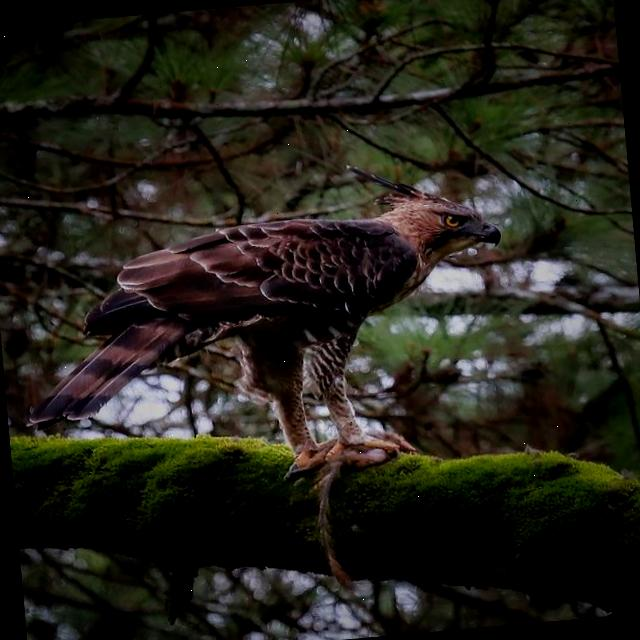Elang Jawa: (11, 177, 550, 522)
